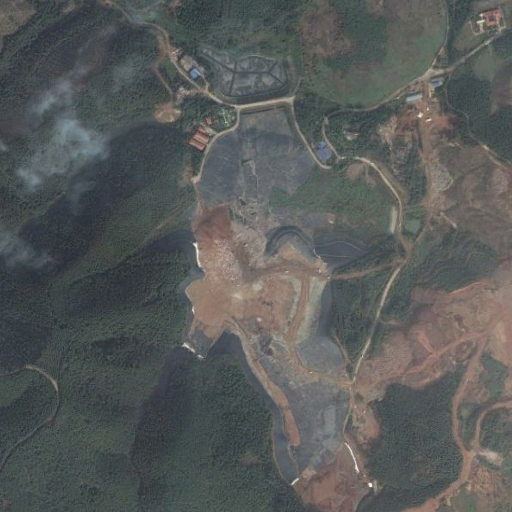lf: (198, 107, 374, 488)
